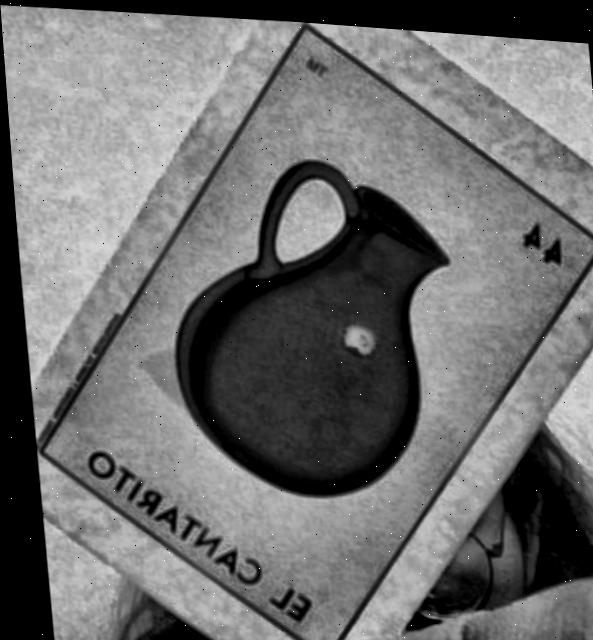El Cantarito: (32, 23, 593, 640)
